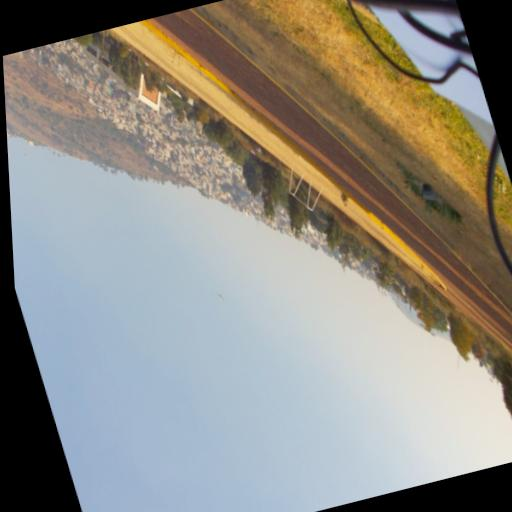drones: (216, 291, 226, 302)
